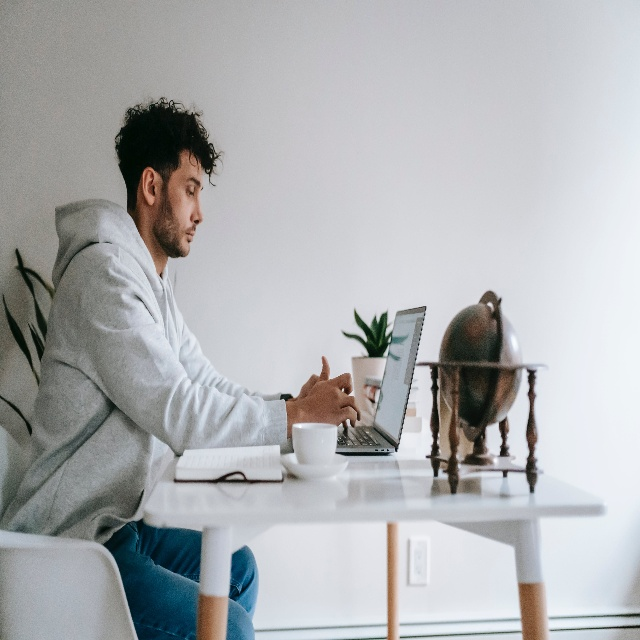Sin_guantes: (304, 354, 361, 427)
